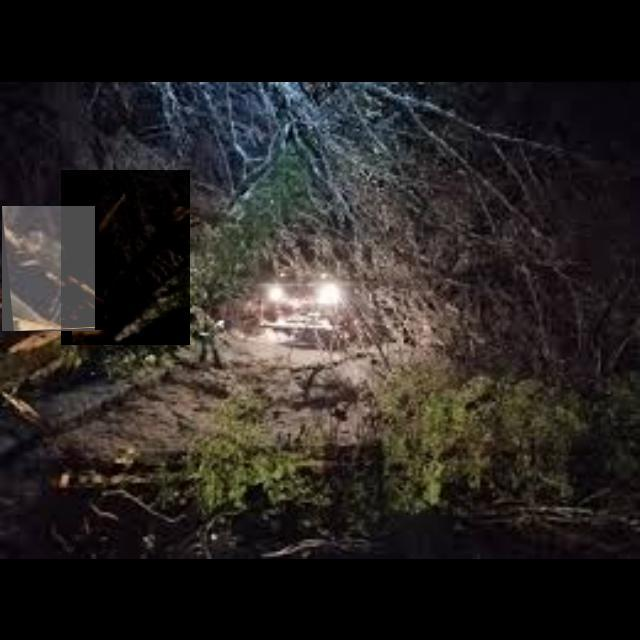fallen_tree: (61, 170, 191, 346), (2, 206, 96, 332)
